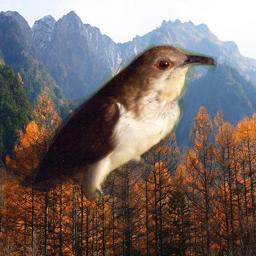Cuckoo: (0, 44, 217, 202)
